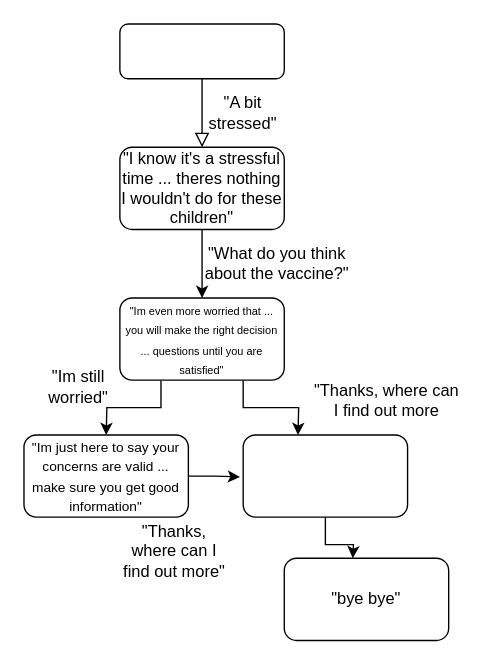
The diagram is 486 pixels wide and 664 high, and some of its shapes have lost their labels. The centre of each missing label's shape, as x and y in pixels:
"Hi how are you": (201,51)
VaxFacts message: (325,475)
